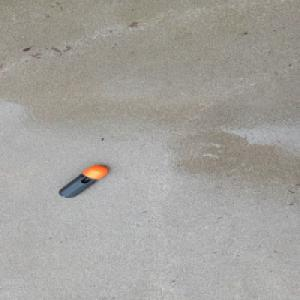PlasticPart: (58, 164, 109, 198)
